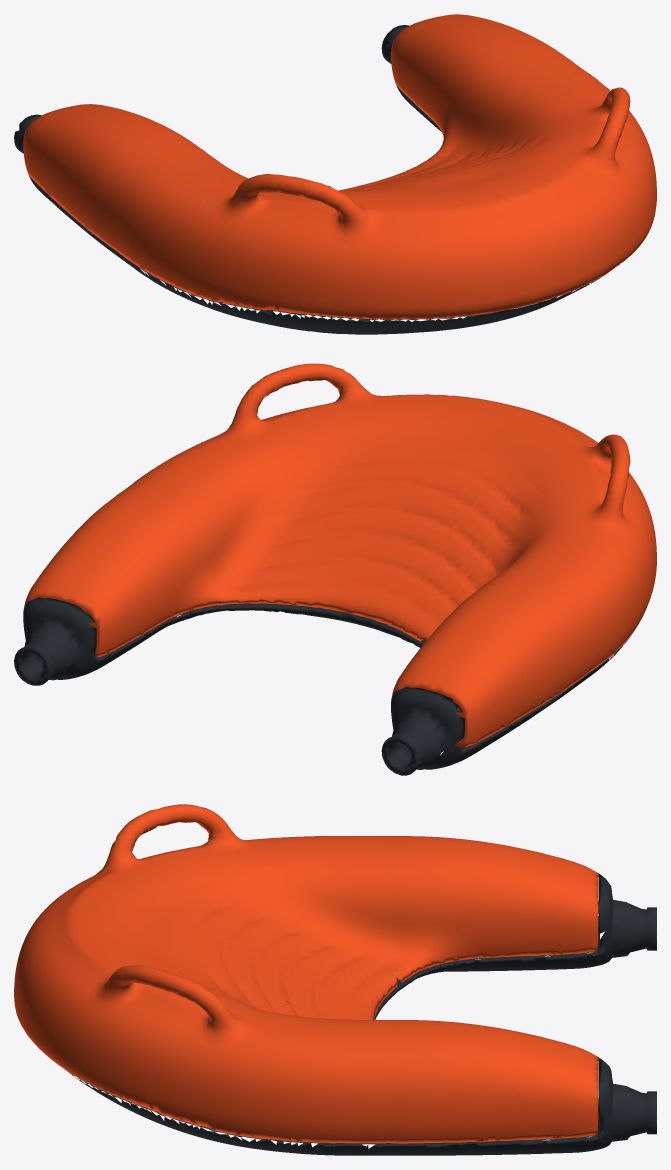
File: twr.glb
3 renders of one model, top to bottom at view 1: azimuth 30°, elevation 25°; view 2: azimuth 150°, elevation 25°; view 3: azimuth 270°, elevation 25°, orthographic. The views are drawn at different scales.
Visible parts, largest first — view 1: Oberteil_Orange, Unterteil_Graphit; view 2: Oberteil_Orange, Unterteil_Graphit; view 3: Oberteil_Orange, Unterteil_Graphit.
Part boxes in pixels (bbox=[...]): Oberteil_Orange: bbox=[23, 14, 656, 319]; Unterteil_Graphit: bbox=[14, 25, 632, 334]; Oberteil_Orange: bbox=[23, 363, 656, 747]; Unterteil_Graphit: bbox=[14, 563, 631, 775]; Oberteil_Orange: bbox=[14, 804, 598, 1143]; Unterteil_Graphit: bbox=[57, 873, 656, 1155].
Bounding box in the file's own units: 1.78 × 0.5887 × 2.
